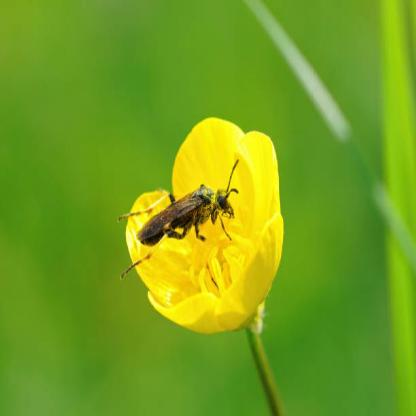sawfly: (118, 153, 243, 277)
